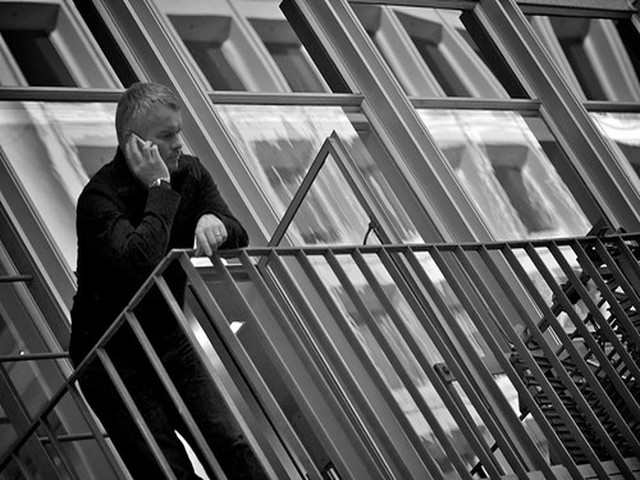Person: (72, 67, 244, 433)
